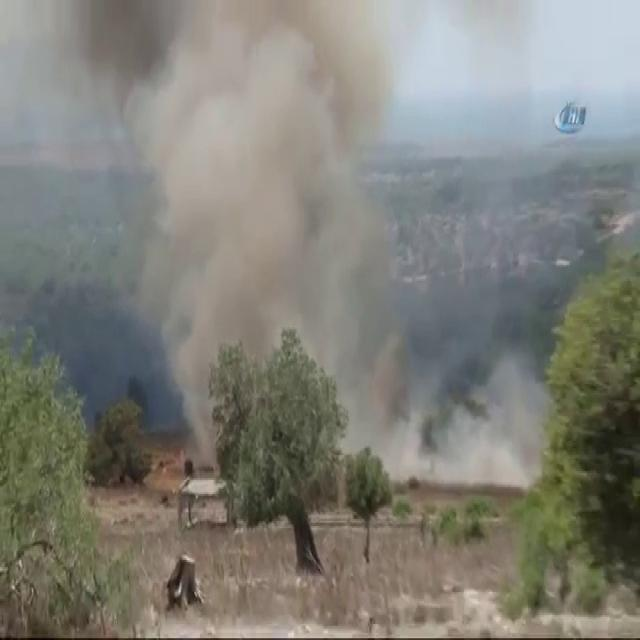Smoke: (1, 0, 396, 305), (338, 296, 549, 492), (157, 241, 359, 434)
